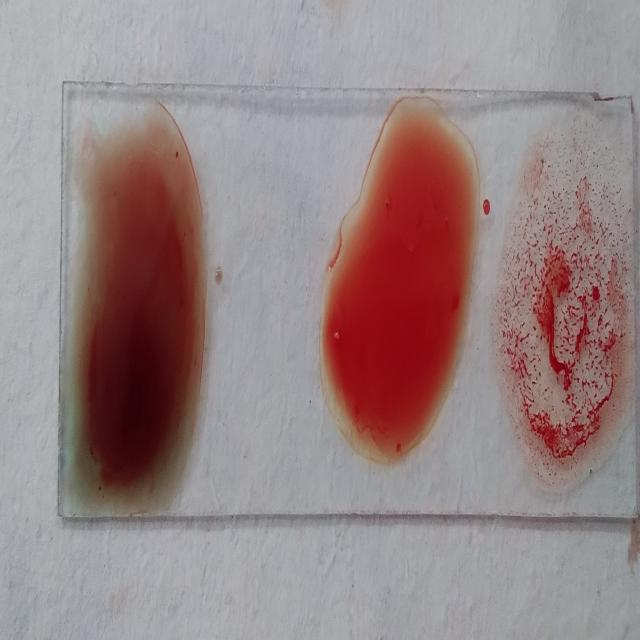D: (511, 131, 635, 481)
